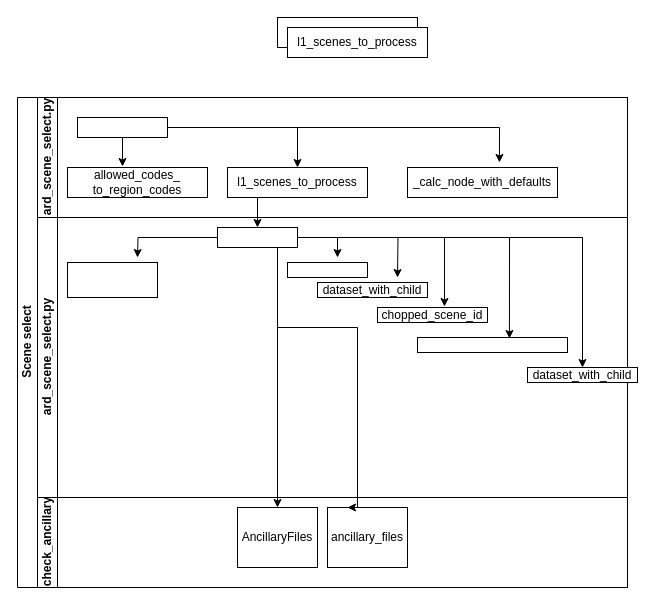
Some shapes in this 655 by 605 pixel diagram are drawn without their labels. The shapes that lost their labels are listed below. From the top down, each one's centre as x and y in pixels, then its label:
pixel 122 127: Scene_select
pixel 257 237: l1_filter
pixel 112 280: calc_processed ard_scene_ids
pixel 327 270: exclude_days
pixel 492 344: processed_ard_scene_ids
